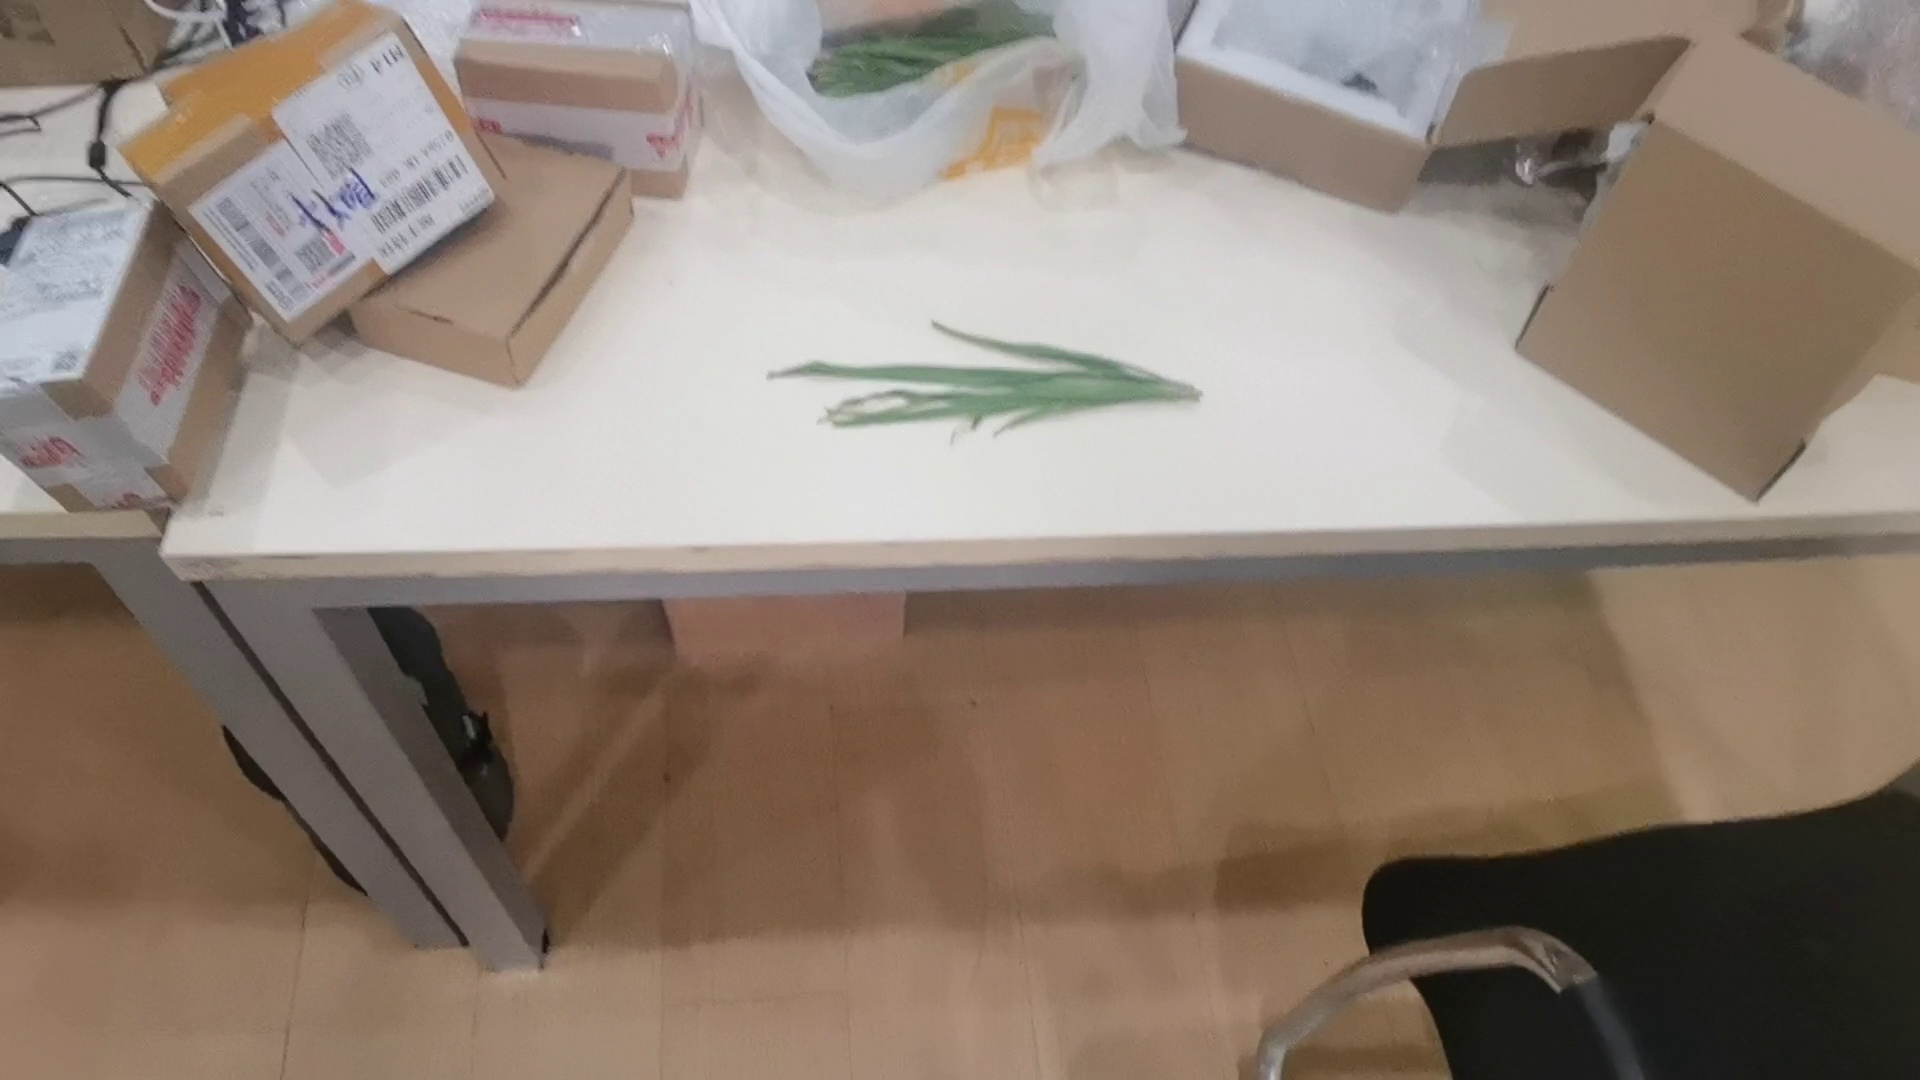chives: (756, 305, 1215, 448)
